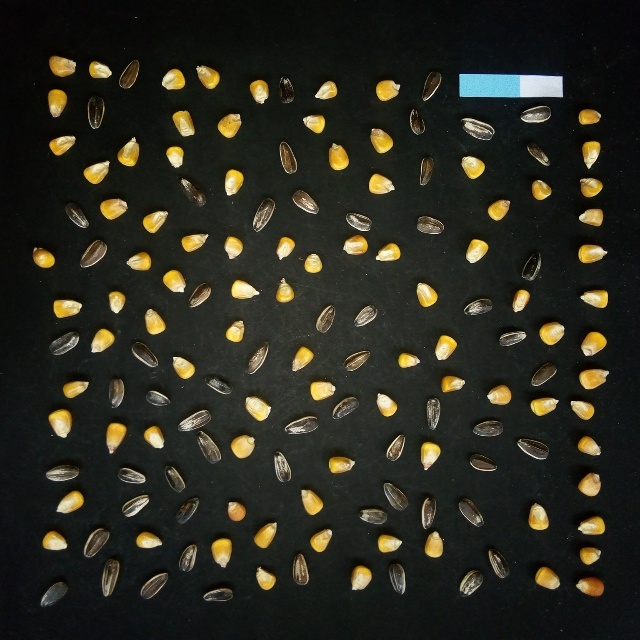escala: (460, 73, 562, 96)
girasol: (453, 493, 488, 531), (455, 114, 499, 144), (36, 575, 71, 612), (242, 340, 275, 379), (249, 192, 278, 236), (287, 186, 326, 218), (511, 433, 552, 463), (57, 197, 93, 231), (135, 568, 171, 602), (46, 328, 85, 359), (97, 554, 123, 600), (175, 175, 210, 209), (126, 337, 161, 371), (456, 564, 486, 603), (483, 544, 513, 583), (273, 138, 302, 178), (80, 524, 113, 559), (282, 410, 323, 438), (78, 237, 111, 271), (171, 494, 204, 528), (380, 479, 412, 513), (193, 430, 224, 465), (516, 248, 546, 284), (174, 406, 215, 432), (115, 492, 154, 519), (267, 449, 296, 485), (41, 461, 84, 484), (312, 302, 341, 336), (85, 92, 109, 133), (116, 56, 144, 91), (340, 347, 375, 375), (520, 140, 555, 168), (410, 214, 452, 237), (159, 463, 189, 495), (382, 430, 409, 465), (274, 72, 300, 108), (418, 68, 444, 104), (465, 450, 501, 476), (103, 374, 128, 411), (459, 296, 497, 320), (385, 559, 409, 597), (469, 416, 506, 440), (173, 541, 199, 575), (111, 464, 151, 486), (352, 302, 382, 331), (289, 549, 311, 588), (421, 395, 444, 432), (139, 387, 174, 411), (415, 152, 437, 189), (187, 282, 215, 311), (343, 209, 375, 234), (516, 103, 554, 124), (200, 373, 234, 396), (199, 585, 236, 606), (418, 494, 439, 531), (330, 396, 361, 421), (405, 106, 427, 140), (353, 507, 390, 526)
maiz: (249, 518, 282, 553), (206, 534, 236, 572), (44, 405, 75, 441), (576, 327, 610, 359), (241, 394, 276, 425), (214, 110, 247, 142), (530, 561, 563, 593), (168, 106, 199, 140), (115, 133, 144, 169), (101, 419, 130, 455), (573, 240, 610, 268), (227, 428, 258, 461), (220, 164, 248, 200), (95, 196, 132, 223), (365, 124, 396, 156), (324, 449, 359, 477), (52, 488, 87, 516), (140, 207, 172, 237), (457, 154, 489, 184), (46, 131, 80, 159), (79, 158, 113, 186), (44, 86, 71, 121), (324, 138, 351, 173), (416, 438, 442, 474), (168, 352, 199, 382), (537, 318, 568, 348), (346, 562, 375, 594), (141, 420, 169, 453), (525, 500, 553, 533), (413, 277, 440, 311), (572, 575, 610, 599), (192, 62, 222, 92), (295, 486, 325, 516), (124, 248, 155, 277), (87, 325, 116, 356), (461, 236, 492, 265), (37, 527, 70, 554), (363, 170, 396, 197), (44, 52, 78, 78), (179, 229, 213, 255), (578, 138, 604, 172), (571, 432, 605, 458), (58, 375, 93, 400), (574, 512, 609, 537), (158, 266, 188, 295), (140, 306, 168, 337), (371, 390, 402, 418), (483, 381, 514, 409), (483, 196, 515, 223), (577, 365, 610, 391), (527, 394, 561, 419), (251, 565, 280, 594), (576, 470, 605, 499), (227, 276, 262, 300), (578, 287, 613, 311), (289, 344, 316, 375), (134, 528, 166, 554), (371, 77, 403, 103), (574, 175, 606, 201), (159, 65, 188, 93), (298, 111, 329, 137), (272, 275, 298, 306), (50, 296, 85, 319), (371, 240, 403, 265), (374, 531, 406, 556), (307, 526, 335, 554), (433, 333, 460, 362), (420, 530, 447, 559), (340, 232, 370, 258), (574, 543, 605, 568), (566, 398, 598, 422), (30, 244, 58, 271), (506, 285, 531, 315), (222, 317, 249, 344), (222, 496, 249, 523), (246, 77, 271, 106), (527, 177, 556, 202), (161, 144, 188, 170), (312, 78, 340, 103), (575, 205, 605, 228), (306, 379, 337, 401), (86, 58, 114, 82), (574, 106, 606, 127), (221, 233, 244, 262), (438, 372, 469, 393), (273, 235, 297, 262), (104, 289, 127, 316), (394, 349, 422, 371), (302, 249, 325, 275)
